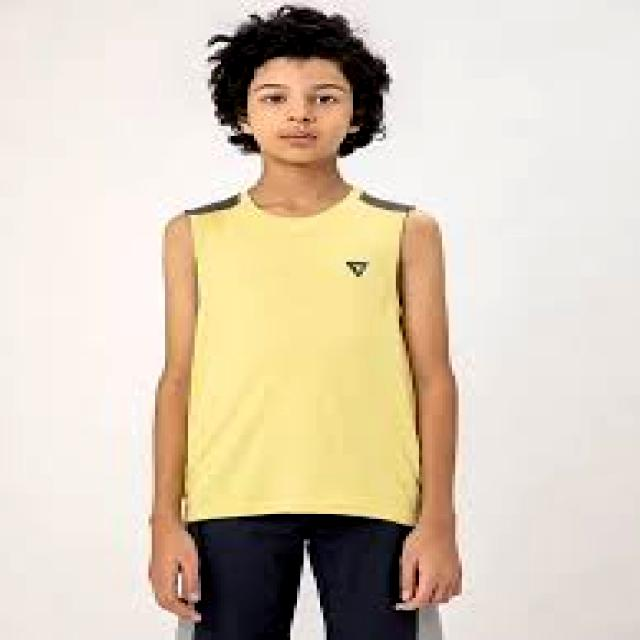face: (241, 57, 359, 160)
lower-wear: (179, 514, 442, 639)
top-wear: (185, 186, 422, 523)
